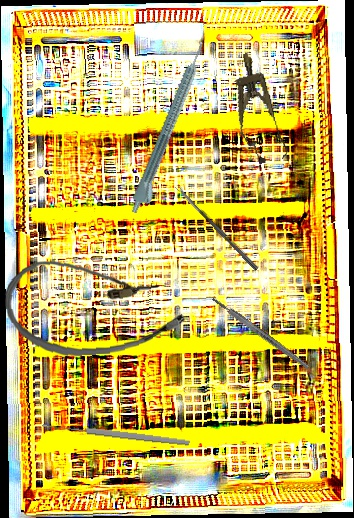Cannula: (2, 251, 187, 361)
Handpiece: (127, 40, 216, 218)
Scalpel Handle: (210, 295, 311, 371)
Speculum: (223, 48, 292, 167)
Surgical Spoon: (174, 184, 260, 271), (42, 421, 190, 447)
